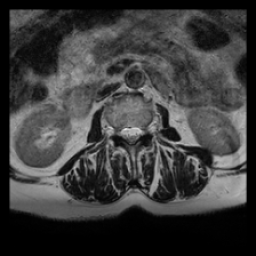CCS_normal: (128, 118, 134, 149)
LFS_normal: (141, 118, 149, 142)
LLS_normal: (134, 121, 141, 143)
RFS_normal: (113, 120, 120, 141)
RLS_normal: (120, 121, 128, 142)
